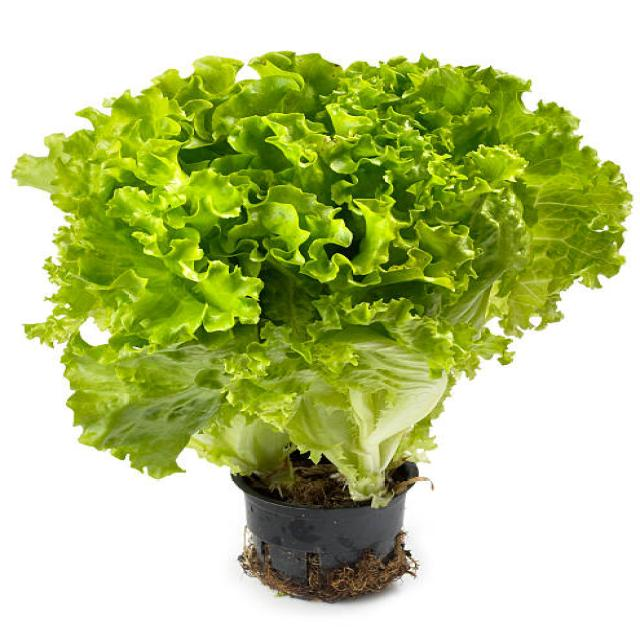Wet Waste: (9, 52, 629, 476)
